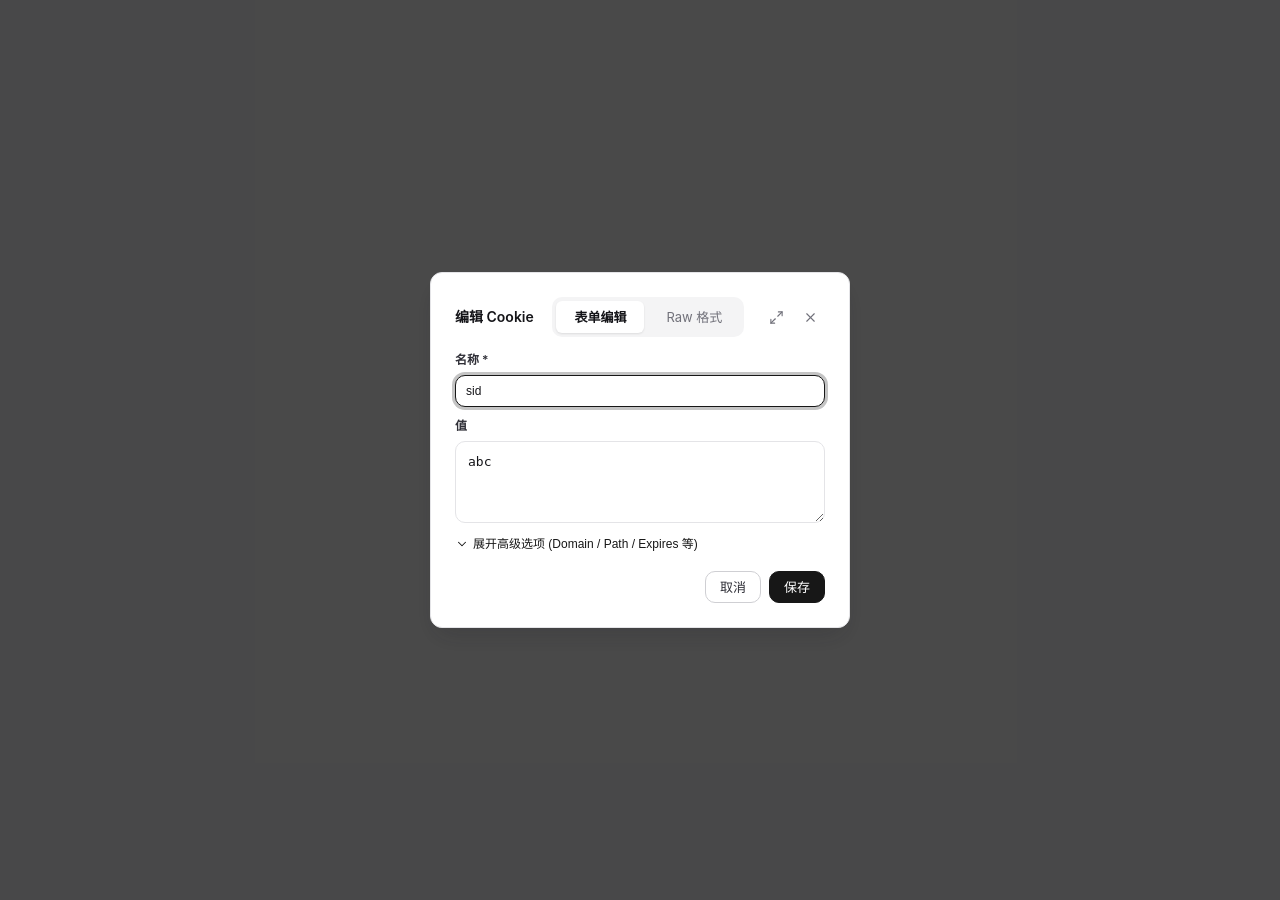
Test case: CookieEditModal 渲染与初始化 › 编辑会话 Cookie：过期类型为「会话」且不显示时间戳输入
The image size is (1280, 900).
Step 1. Click the button "展开高级选项 (Domain / Path / Expires 等)" → (576, 544), box [455,535,698,553]
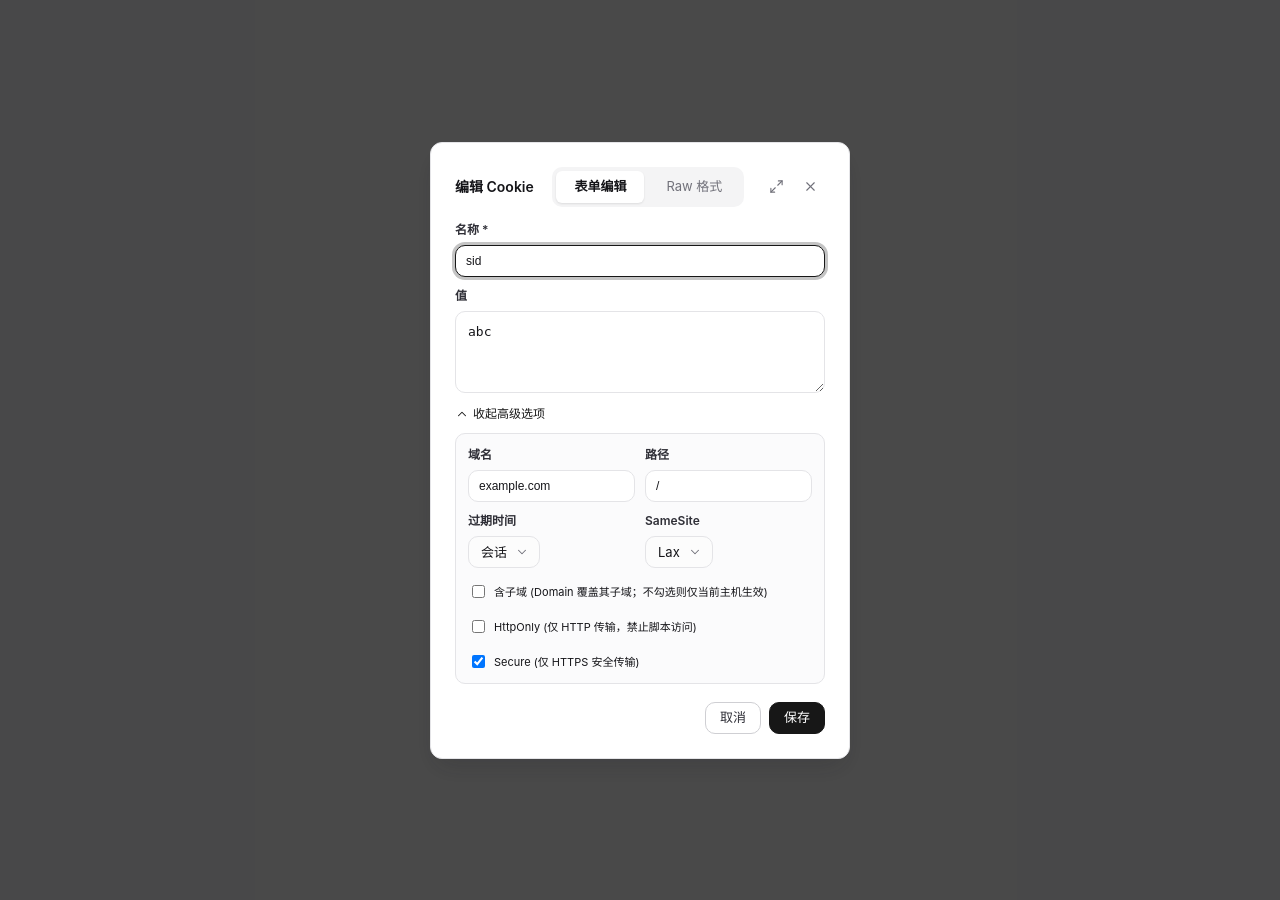
Now the dropdown labelled "会话" is shown, box [468,536,540,568]
Now the dropdown labelled "Lax" is shown, box [645,536,713,568]
